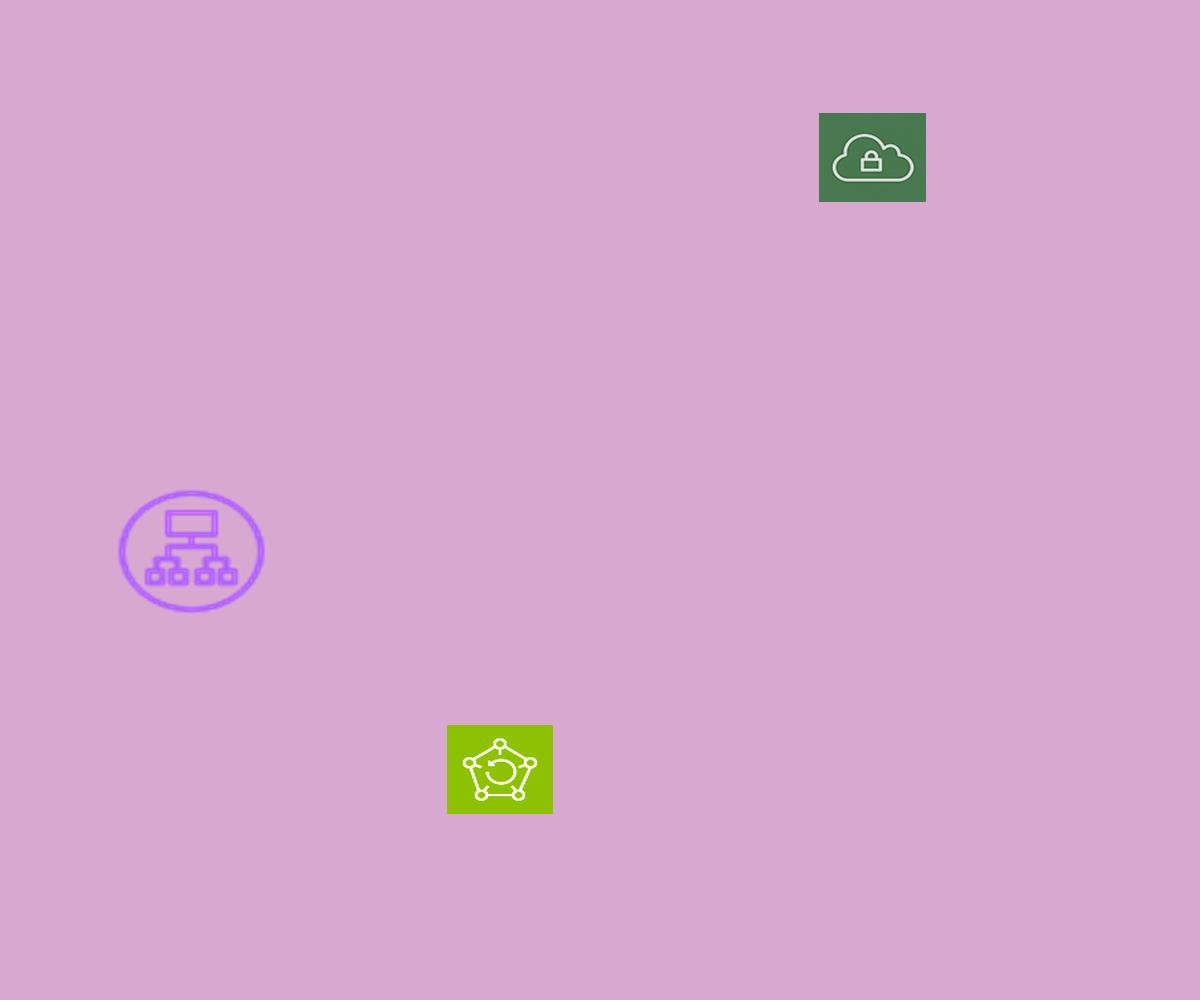AWS-Backup: (447, 725, 553, 814)
AWS-Private_vpc: (819, 113, 926, 202)
AWS-Res_Elastic-Load-Balancing_Application-Load-Balancer: (112, 485, 271, 618)
